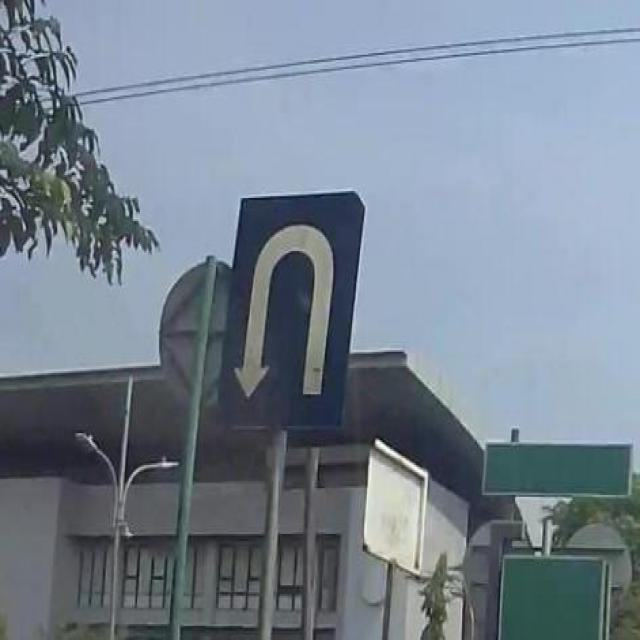U-turn: (225, 192, 359, 429)
